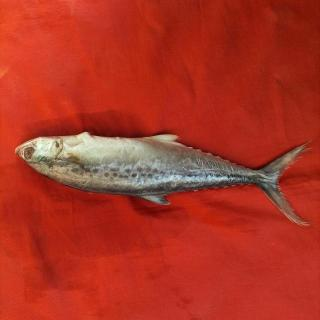Ikan: (9, 122, 319, 239)
